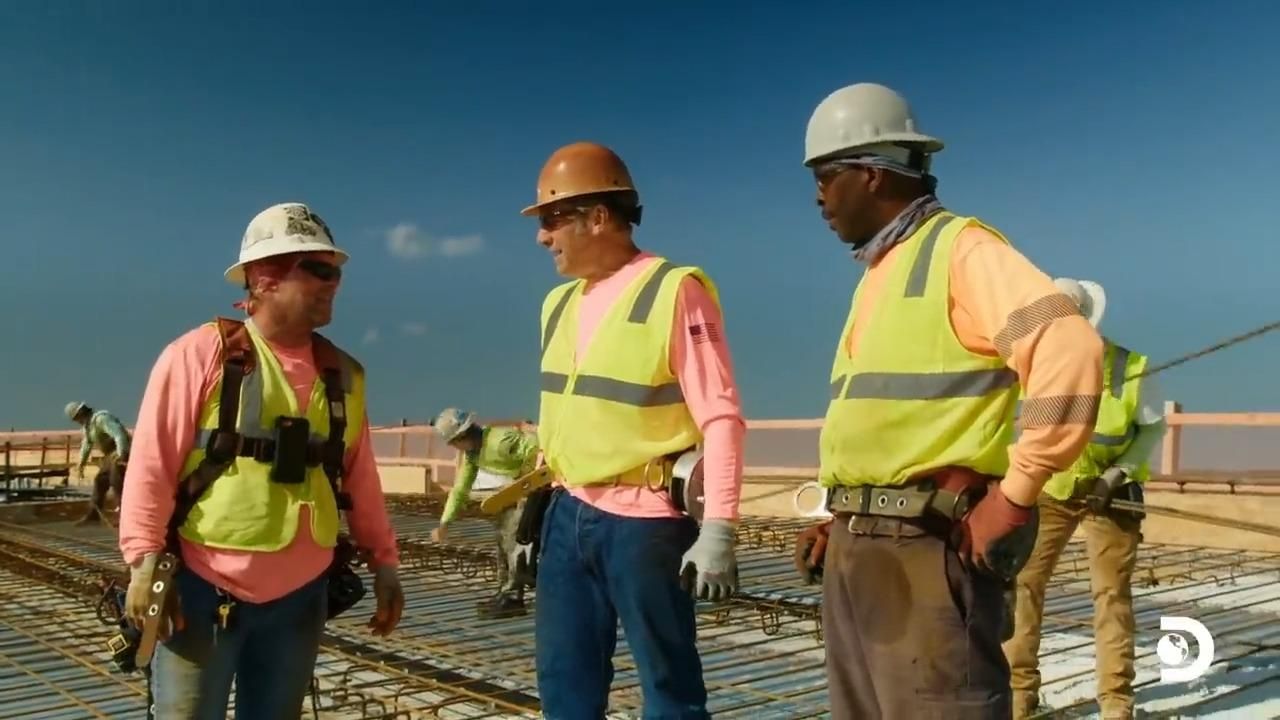Gloves: (677, 521, 744, 607), (950, 484, 1016, 566), (125, 566, 180, 650), (365, 562, 407, 634), (796, 520, 833, 574), (1081, 471, 1118, 516)
Helmet: (802, 81, 944, 167), (223, 201, 349, 287), (520, 140, 638, 216), (63, 400, 87, 420)
Person: (794, 81, 1105, 719), (116, 201, 405, 718), (518, 140, 746, 719), (1000, 276, 1167, 719), (426, 407, 537, 607), (63, 400, 132, 527)
Safety Boot: (1005, 678, 1046, 720), (482, 589, 519, 616)
Safety Vest: (849, 288, 1030, 481), (203, 327, 354, 548), (539, 272, 708, 466), (1093, 355, 1146, 478), (485, 433, 528, 475), (90, 419, 120, 466)
bare-arms: (425, 515, 453, 548)
